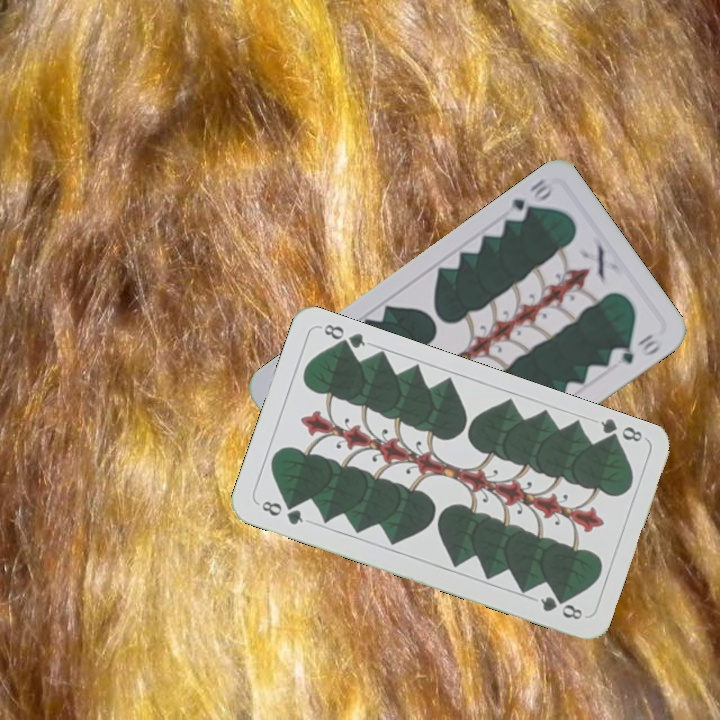G10: (502, 172, 558, 225)
G8: (596, 414, 645, 448), (257, 496, 306, 528)
